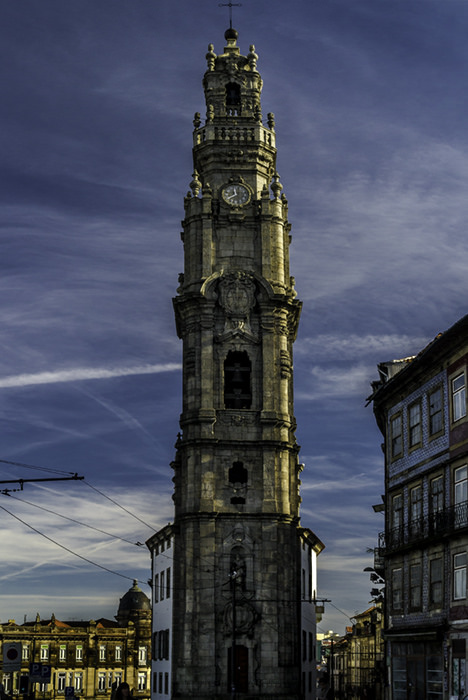clerigos: (171, 0, 305, 699)
